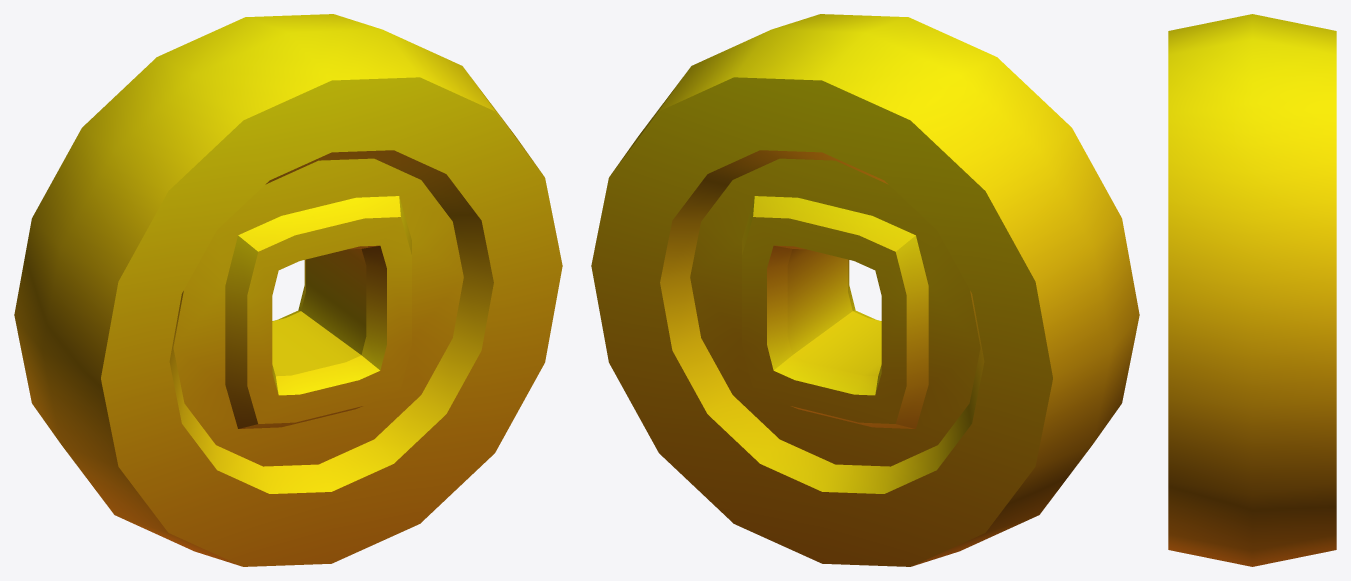
Rendered from Gold_Hole_Coin_02.glb.
The picture shows the model from 3 angles, left to right: view 1: azimuth 30°, elevation 25°; view 2: azimuth 150°, elevation 25°; view 3: azimuth 270°, elevation 25°; orthographic projection. The views are drawn at different scales.
Visible parts, largest first — view 1: Gold_Hole_Coin_02; view 2: Gold_Hole_Coin_02; view 3: Gold_Hole_Coin_02.
Boxes of the visible parts, <box> form: Gold_Hole_Coin_02: <box>14,14,562,566</box>; Gold_Hole_Coin_02: <box>591,14,1139,566</box>; Gold_Hole_Coin_02: <box>1168,14,1336,566</box>.
Size of the model in its own units: 0.3654 by 0.3654 by 0.1113.
1 material, 1 textured.
